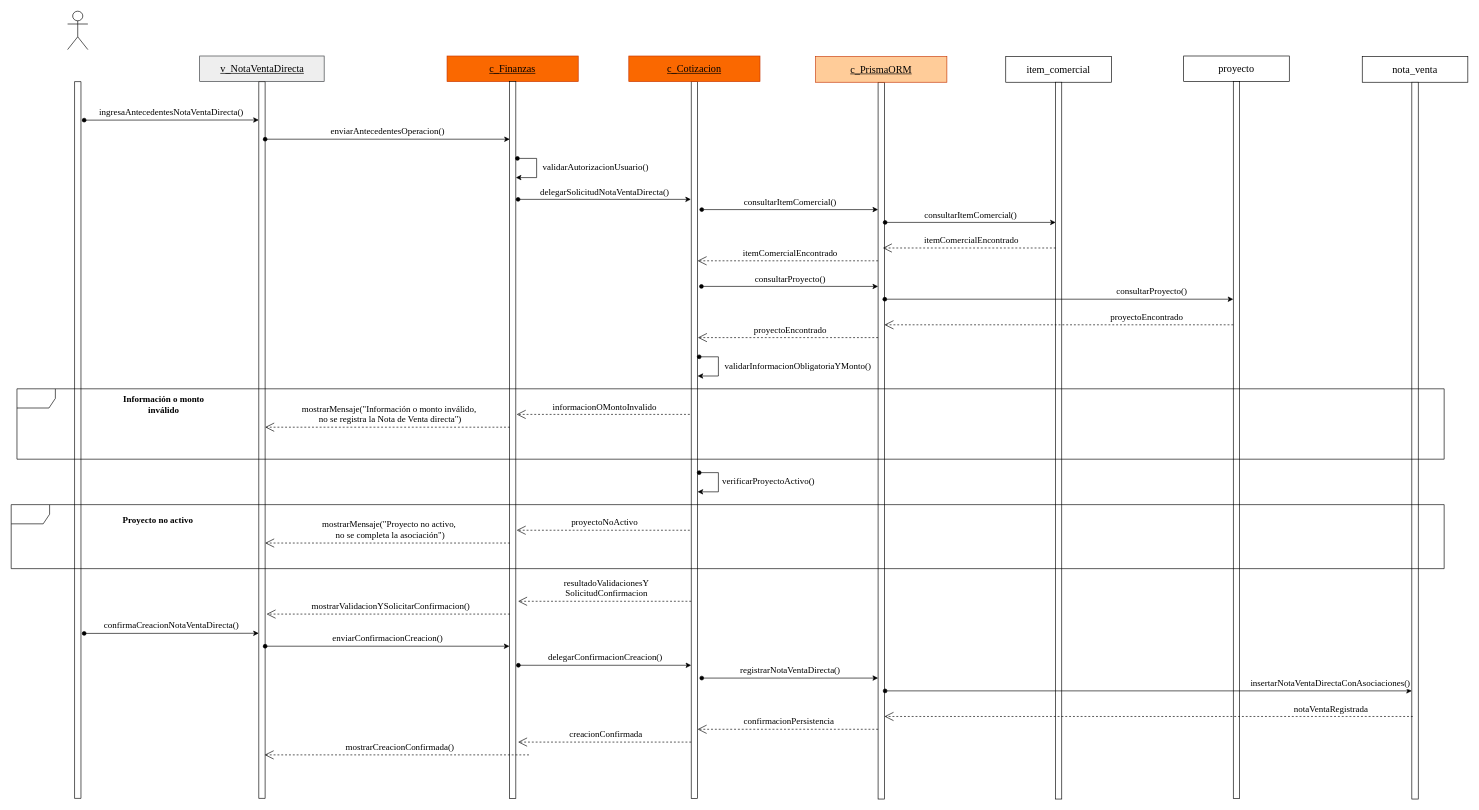
This 1479x810 diagram has some shape labels left out. The shapes that lost their labels are listed below. From the top down, each one's centre as x and y in pixels, then its label:
At [77,30]: "Usuario Autorizado Gerencia o Secretaria".
At [730,423]: "Exc1".
At [727,536]: "Exc2".
